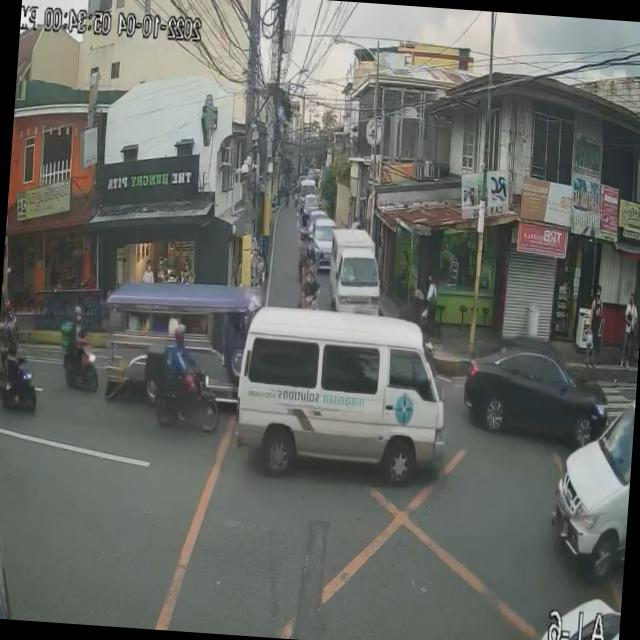half: (172, 323, 186, 346), (74, 305, 85, 322)
